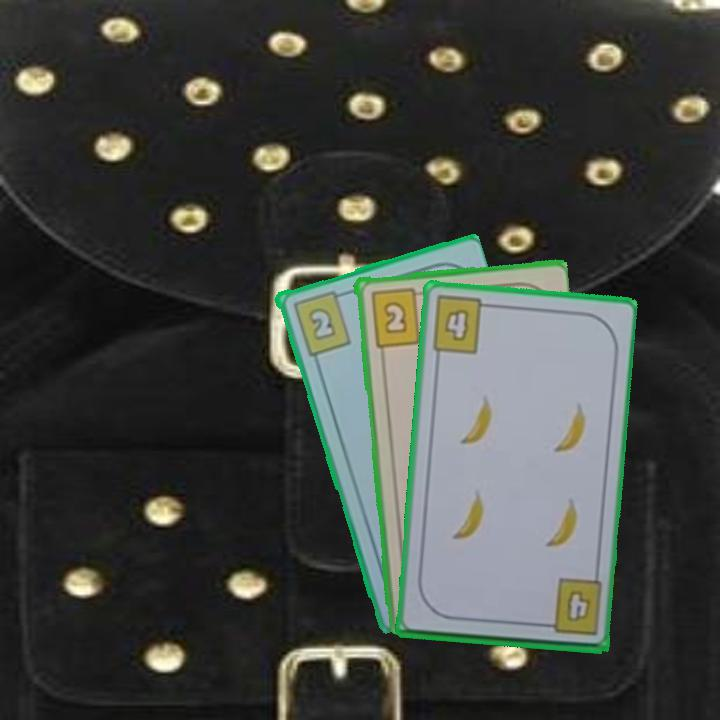2b: (288, 286, 354, 358), (366, 284, 428, 349)
4b: (428, 292, 495, 357), (536, 575, 605, 638)
